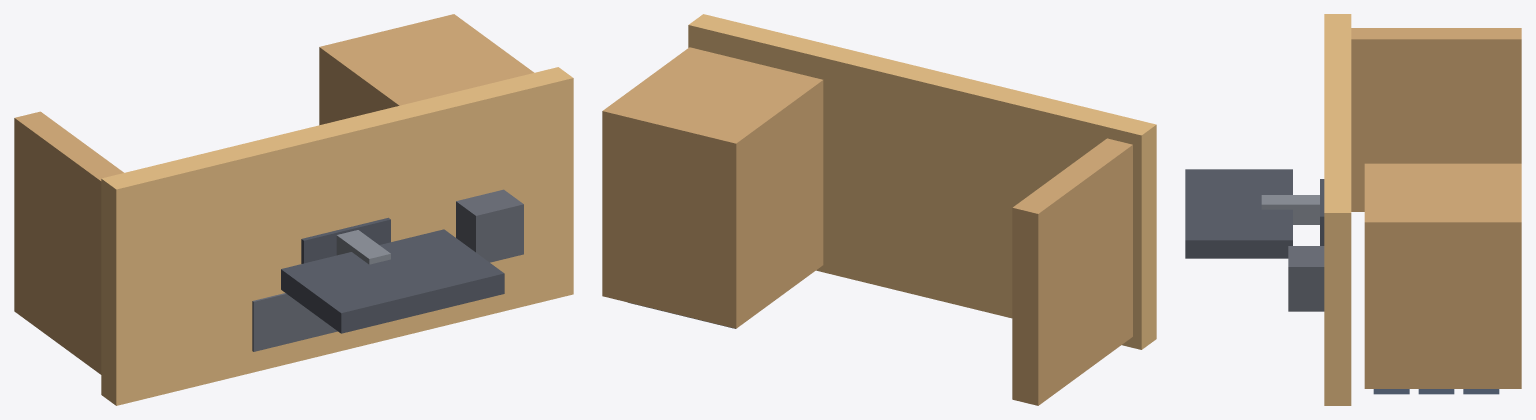
Rendered from 13_office_desk.glb.
3 views of the same model, side by side, from view 1: azimuth 30°, elevation 25°; view 2: azimuth 150°, elevation 25°; view 3: azimuth 270°, elevation 25° (orthographic). The views are drawn at different scales.
Parts seen in each view (by area): view 1: part_1, part_2, part_10, part_3, part_14, part_13, part_12, part_11; view 2: part_1, part_3, part_2; view 3: part_3, part_2, part_1, part_10, part_14, part_11, part_12.
Boxes of the visible parts, bbox=[...] form: part_1: bbox=[101, 67, 573, 405]; part_2: bbox=[14, 111, 123, 374]; part_10: bbox=[281, 229, 504, 333]; part_3: bbox=[319, 14, 533, 125]; part_14: bbox=[456, 189, 523, 262]; part_13: bbox=[252, 293, 337, 351]; part_12: bbox=[301, 217, 390, 263]; part_11: bbox=[336, 230, 390, 264]; part_1: bbox=[688, 14, 1156, 349]; part_3: bbox=[602, 47, 823, 328]; part_2: bbox=[1012, 138, 1132, 405]; part_3: bbox=[1364, 163, 1521, 388]; part_2: bbox=[1351, 28, 1521, 211]; part_1: bbox=[1324, 14, 1351, 405]; part_10: bbox=[1185, 169, 1292, 258]; part_14: bbox=[1288, 246, 1324, 311]; part_11: bbox=[1261, 195, 1319, 224]; part_12: bbox=[1320, 179, 1324, 245].
Size of the model in its own units: 2.1 by 0.9675 by 1.5.
